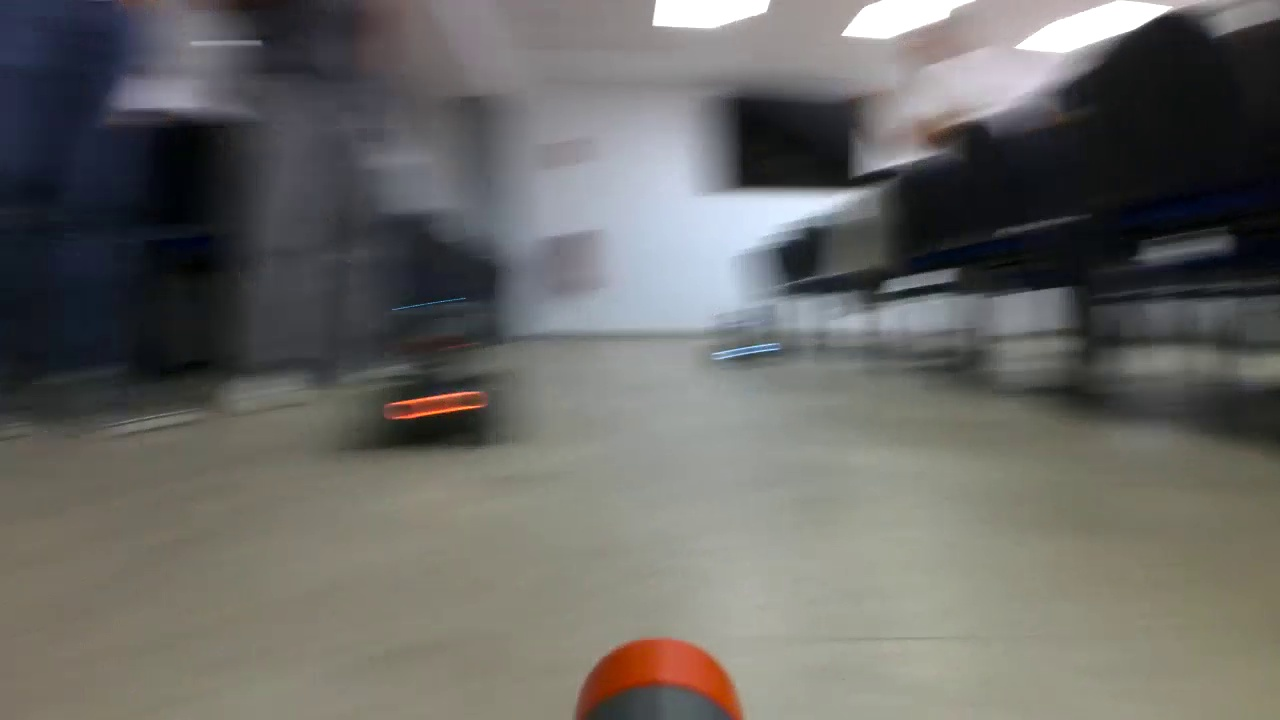robot: (348, 360, 500, 445), (705, 330, 782, 362)
